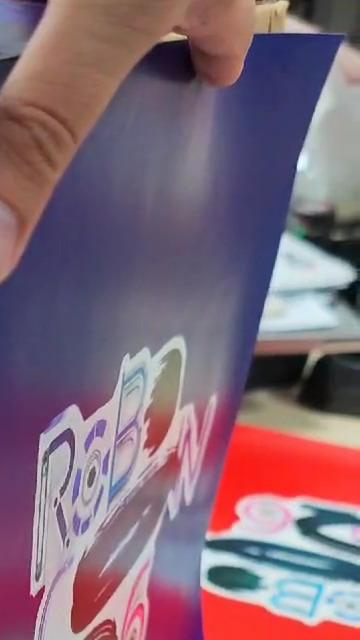B_R1: (0, 325, 215, 640)
